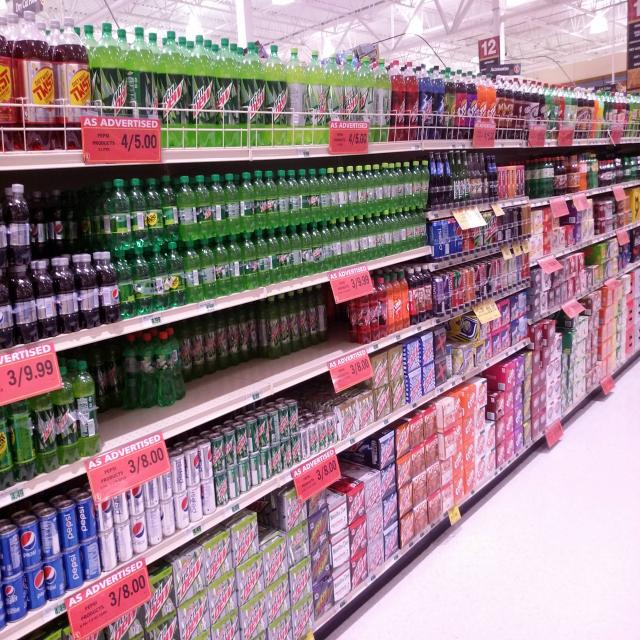unorganised: (263, 287, 347, 367), (181, 323, 275, 390), (126, 331, 191, 407), (124, 29, 158, 127), (28, 189, 71, 252), (212, 169, 255, 231), (92, 351, 127, 425), (213, 36, 237, 143), (286, 48, 310, 145), (101, 521, 134, 575), (188, 243, 212, 305), (373, 58, 390, 141), (145, 502, 176, 547), (188, 482, 221, 520), (278, 169, 300, 223), (179, 174, 196, 240), (37, 512, 60, 558), (81, 540, 106, 582), (229, 232, 245, 292), (1, 528, 22, 570)
